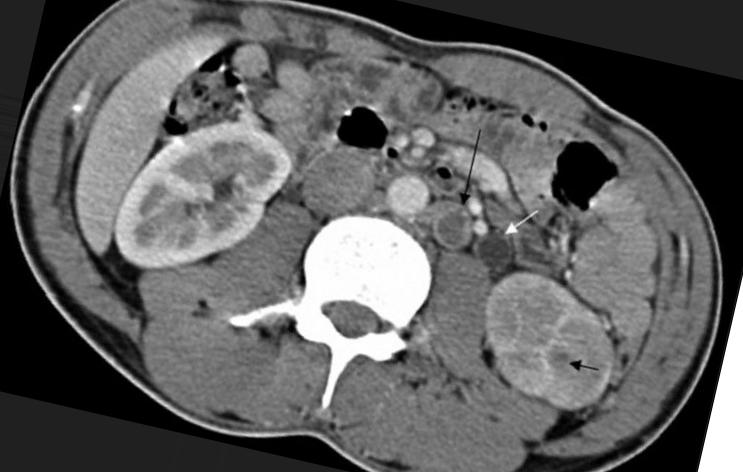anomaly: (430, 205, 485, 255)
